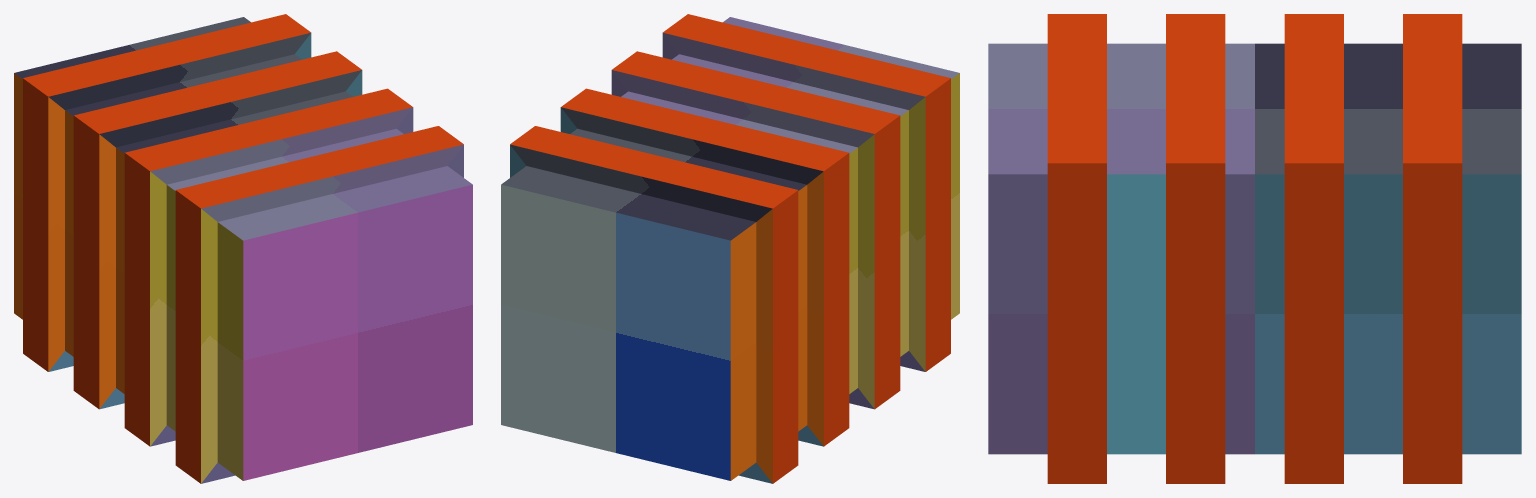
File: box colorful.fbx
3 renders of one model, left to right at view 1: azimuth 30°, elevation 25°; view 2: azimuth 150°, elevation 25°; view 3: azimuth 270°, elevation 25°, orthographic. The views are drawn at different scales.
Visible parts, largest first — view 1: Cube.030; view 2: Cube.030; view 3: Cube.030.
Boxes of the visible parts, <box> form: Cube.030: <box>14,14,472,483</box>; Cube.030: <box>501,14,959,483</box>; Cube.030: <box>988,14,1521,483</box>.
Size of the model in its own units: 229 by 229 by 345.
